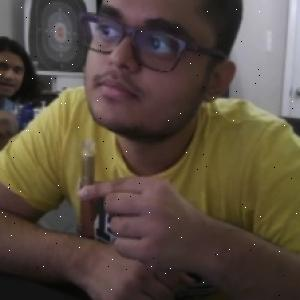Golden-E-Ciggirate: (71, 136, 99, 242)
